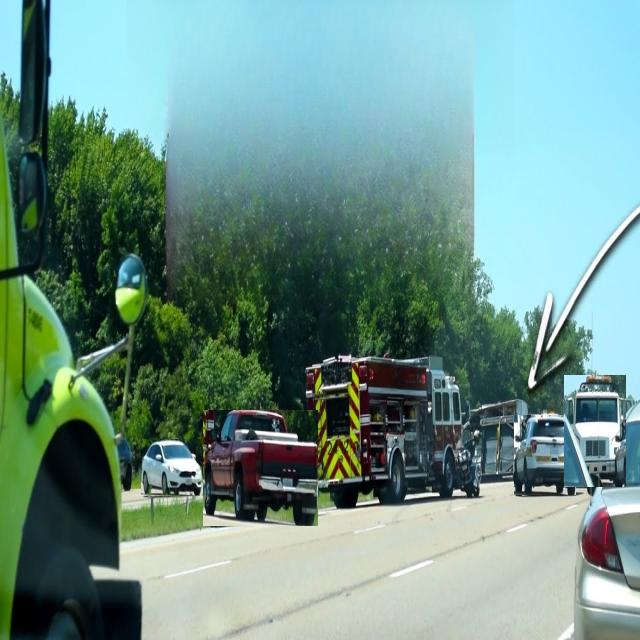car: (564, 375, 626, 487), (514, 415, 576, 495), (141, 440, 202, 496)
truck: (305, 356, 464, 508), (204, 411, 318, 526)
